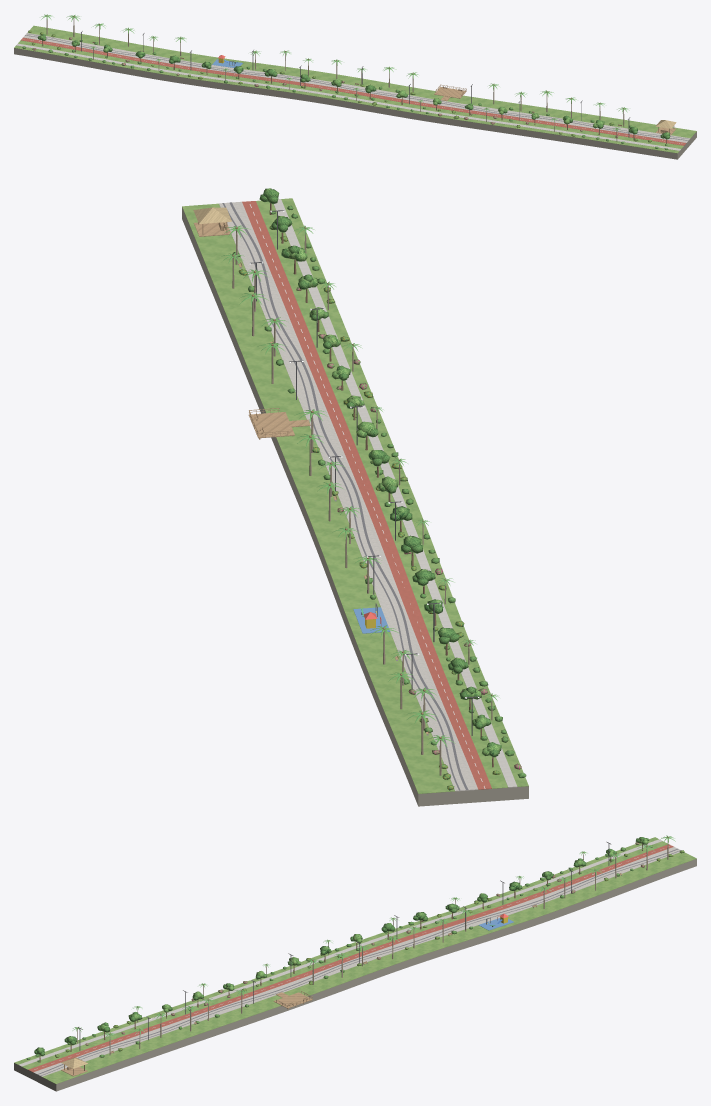
Rendered from parque_06.glb.
3 renders of one model, top to bottom at view 1: azimuth 30°, elevation 25°; view 2: azimuth 150°, elevation 25°; view 3: azimuth 270°, elevation 25°, orthographic. The views are drawn at different scales.
Visible parts, largest first — view 1: parque_06; view 2: parque_06; view 3: parque_06.
Boxes of the visible parts, left/top/right/bottom form: parque_06: left=14, top=25, right=696, bottom=159; parque_06: left=182, top=198, right=528, bottom=806; parque_06: left=14, top=837, right=696, bottom=1091.
Size of the model in its own units: 212 by 14.03 by 249.
27 materials, 14 textured.
